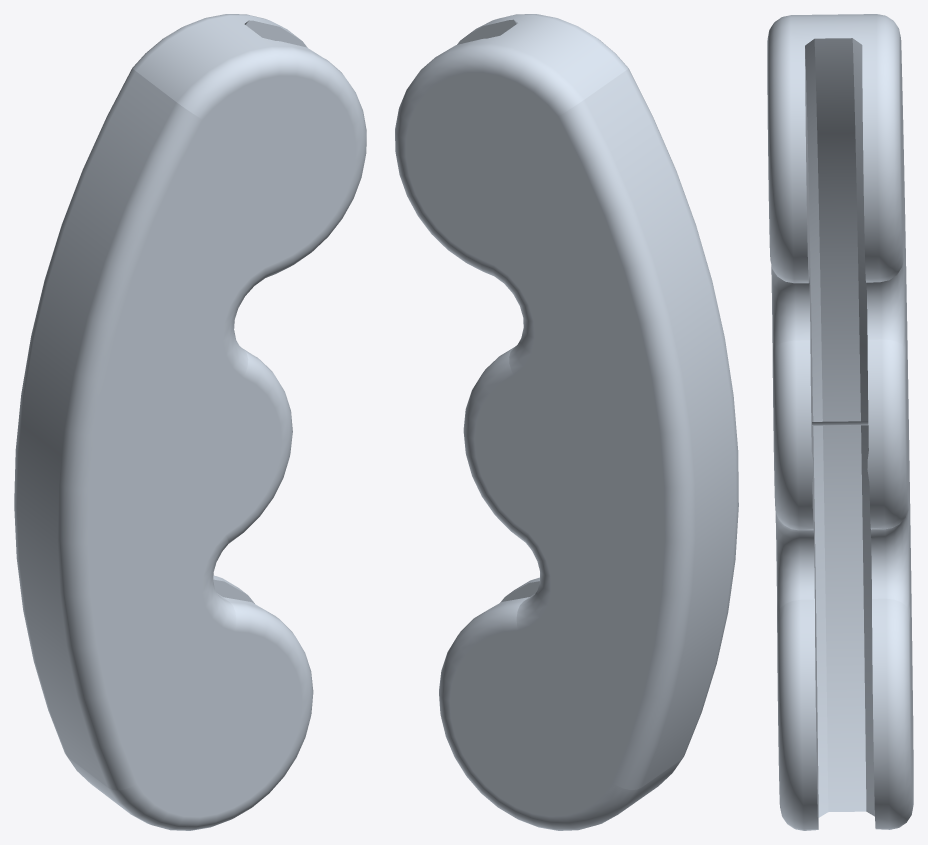
The model's file is RB-035_viewer.glb.
3 views of the same model, side by side, from view 1: azimuth 30°, elevation 25°; view 2: azimuth 150°, elevation 25°; view 3: azimuth 270°, elevation 25° (orthographic). The views are drawn at different scales.
Parts seen in each view (by area): view 1: basebody_imported1; view 2: basebody_imported1; view 3: basebody_imported1.
Boxes of the visible parts, x1=… form: basebody_imported1: x1=14, y1=14, x2=366, y2=830; basebody_imported1: x1=395, y1=14, x2=738, y2=830; basebody_imported1: x1=767, y1=14, x2=913, y2=830.
Size of the model in its own units: 0.00532 by 0.0129 by 0.0021.
